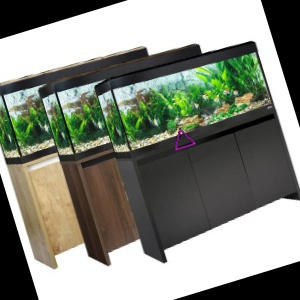triangle: (172, 126, 196, 153)
